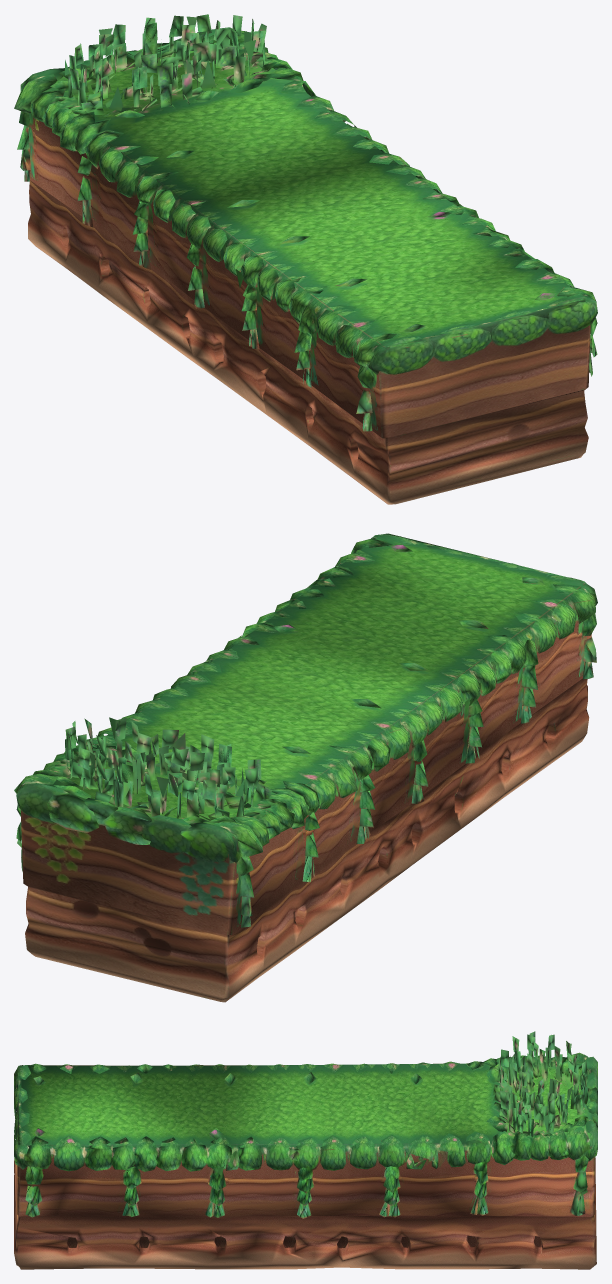
The model's file is Grass.fbx.
3 views of the same model, one above another, from view 1: azimuth 30°, elevation 25°; view 2: azimuth 150°, elevation 25°; view 3: azimuth 270°, elevation 25° (orthographic). The views are drawn at different scales.
Parts seen in each view (by area): view 1: mesh_node; view 2: mesh_node; view 3: mesh_node.
Part boxes in pixels (left/top/right/bottom): mesh_node: left=14, top=14, right=597, bottom=504; mesh_node: left=14, top=533, right=597, bottom=1002; mesh_node: left=14, top=1031, right=597, bottom=1269.
Size of the model in its own units: 238 by 190 by 602.
1 material, 1 textured.
